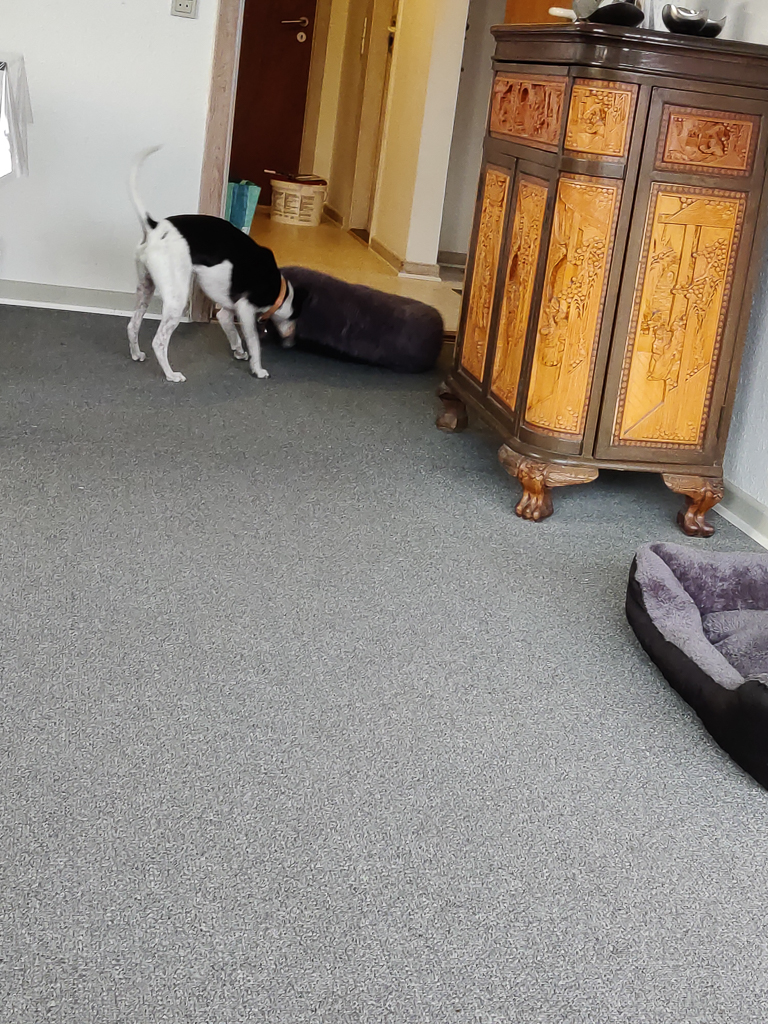Dog: (120, 136, 318, 390)
